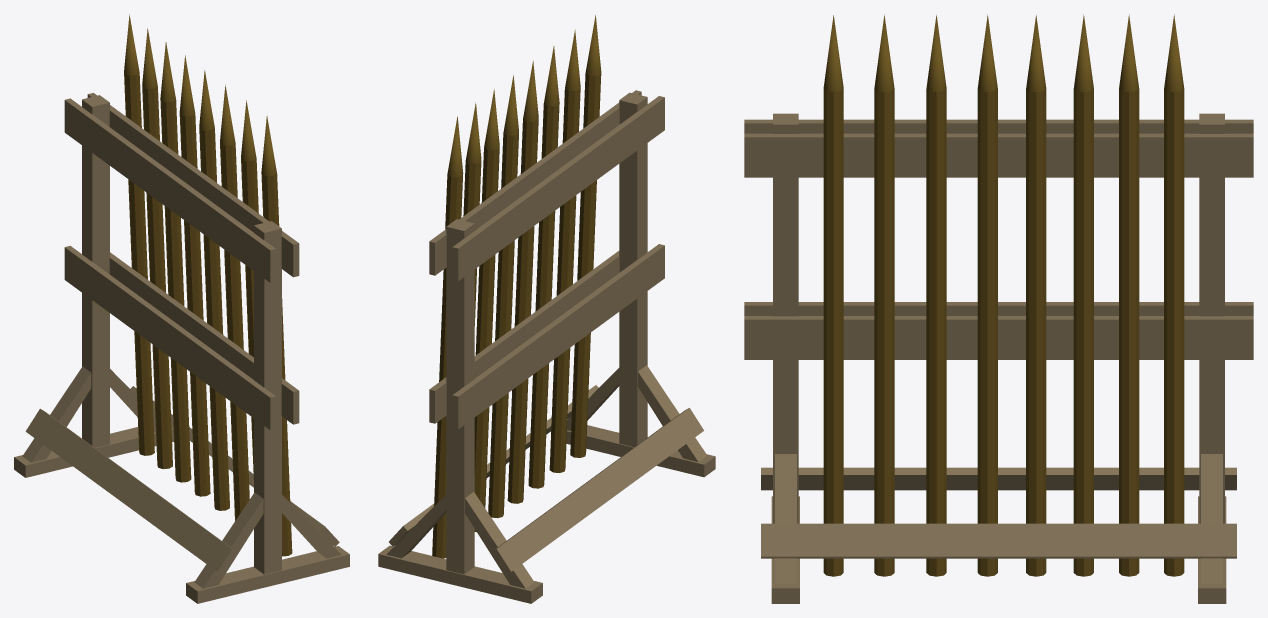
File: Weapon_Rack.fbx
3 views of the same model, side by side, from view 1: azimuth 30°, elevation 25°; view 2: azimuth 150°, elevation 25°; view 3: azimuth 270°, elevation 25° (orthographic). The views are drawn at different scales.
Parts seen in each view (by area): view 1: pCube5, pasted__pCube7, pCube2, pasted__pCube2, pCube4, pasted__pCylinder4, pasted__pCylinder1, pasted__pCylinder3, pasted__pCylinder5, pasted__pCylinder2, pasted__pCylinder6, pasted__pasted__pCube5 (+10 smaller); view 2: pasted__pCube7, pCube5, pasted__pCube2, pCube2, pCube4, pCylinder1, pasted__pCylinder6, pasted__pCylinder7, pasted__pCylinder5, pasted__pCylinder4, pasted__pasted__pCube5, pasted__pCube5 (+10 smaller); view 3: pasted__pCube4, pasted__pasted__pCube5, pasted__pCube5, pasted__pCylinder2, pasted__pCylinder3, pasted__pCylinder1, pasted__pCylinder7, pasted__pCylinder5, pasted__pCylinder4, pasted__pCylinder6, pCylinder1, pCube2 (+8 smaller).
Part boxes in pixels (x1,y1,x2,y2): pCube5: [64, 245, 275, 430]; pasted__pCube7: [64, 98, 275, 282]; pCube2: [254, 221, 281, 574]; pasted__pCube2: [82, 95, 109, 447]; pCube4: [25, 408, 236, 574]; pasted__pCylinder4: [179, 55, 210, 496]; pasted__pCylinder1: [124, 14, 154, 455]; pasted__pCylinder3: [160, 42, 191, 482]; pasted__pCylinder5: [199, 70, 229, 510]; pasted__pCylinder2: [142, 28, 172, 469]; pasted__pCylinder6: [220, 85, 249, 520]; pasted__pasted__pCube5: [87, 93, 299, 277]; pasted__pCube7: [452, 96, 664, 281]; pCube5: [452, 244, 664, 429]; pasted__pCube2: [446, 219, 474, 574]; pCube2: [619, 92, 647, 447]; pCube4: [492, 408, 703, 574]; pCylinder1: [570, 15, 601, 457]; pasted__pCylinder6: [528, 46, 559, 488]; pasted__pCylinder7: [549, 29, 580, 472]; pasted__pCylinder5: [507, 60, 538, 503]; pasted__pCylinder4: [488, 75, 518, 518]; pasted__pasted__pCube5: [429, 90, 641, 275]; pasted__pCube5: [429, 251, 619, 423]; pasted__pCube4: [761, 523, 1236, 558]; pasted__pasted__pCube5: [744, 133, 1253, 177]; pasted__pCube5: [744, 316, 1253, 359]; pasted__pCylinder2: [1119, 14, 1139, 576]; pasted__pCylinder3: [1073, 14, 1093, 576]; pasted__pCylinder1: [1164, 14, 1184, 576]; pasted__pCylinder7: [874, 14, 894, 576]; pasted__pCylinder5: [977, 14, 997, 576]; pasted__pCylinder4: [1026, 15, 1046, 576]; pasted__pCylinder6: [926, 15, 946, 576]; pCylinder1: [823, 15, 843, 576]; pCube2: [773, 113, 798, 523].
Size of the model in its own units: 5.11 by 14.34 by 11.93.
